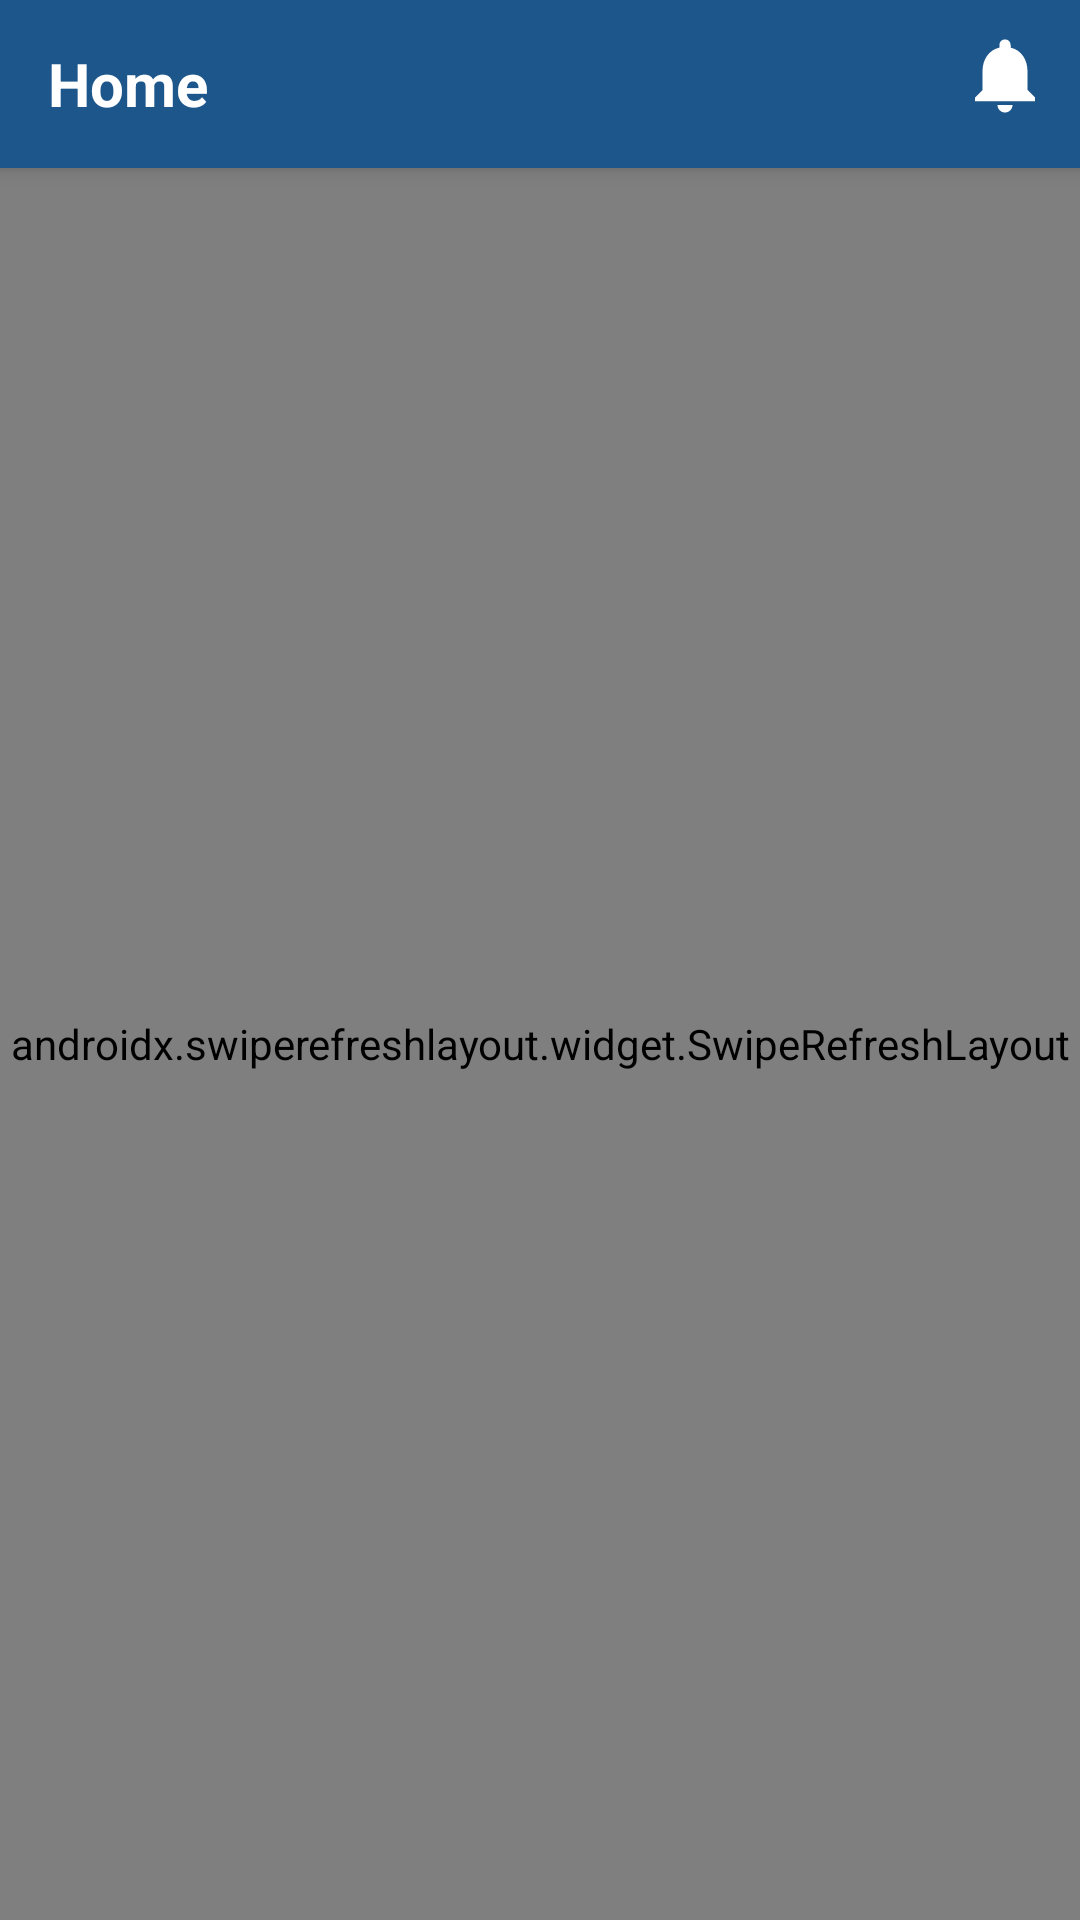

Where icons sit on this 1080 x 1920 app screen, as {"x1": x1, "y1": y1, "x2": x2, "y2": y2}:
notifications: {"x1": 975, "y1": 39, "x2": 1035, "y2": 113}
